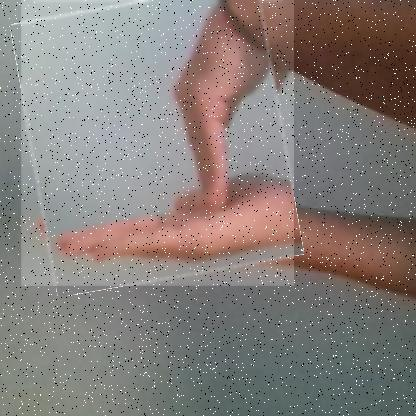Z: (20, 0, 294, 287)
